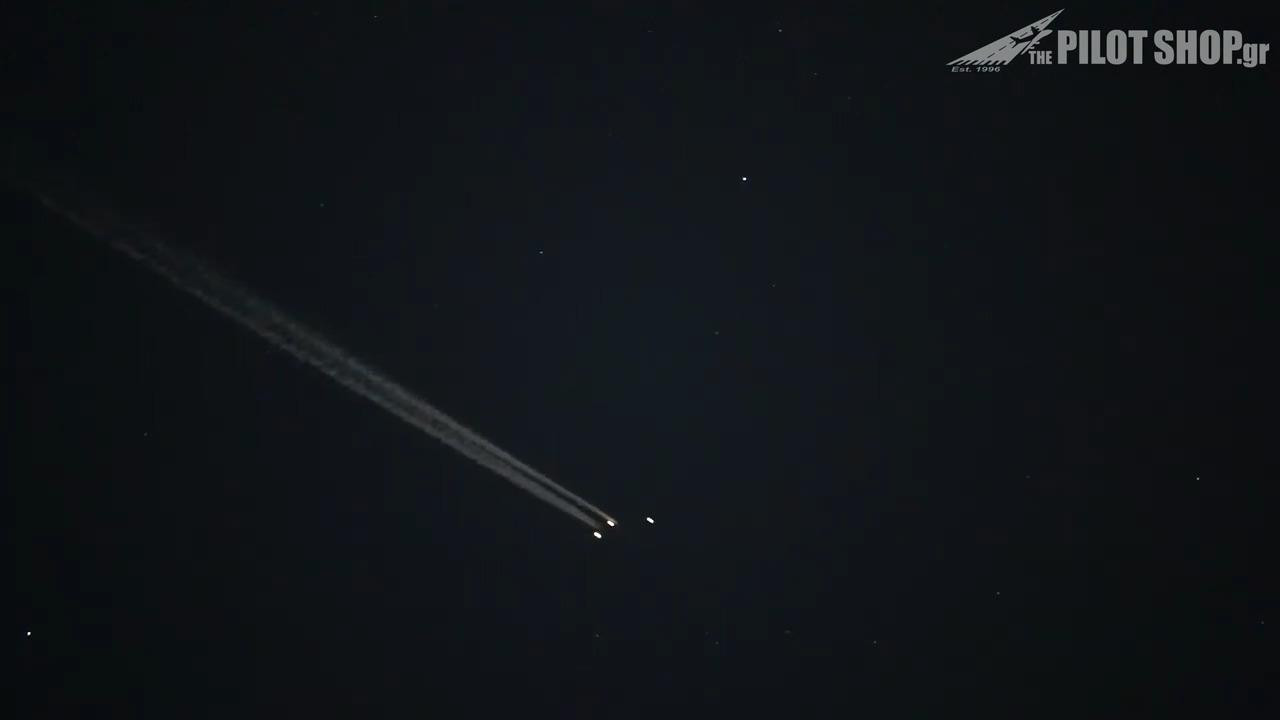Plane: (166, 264, 712, 559)
